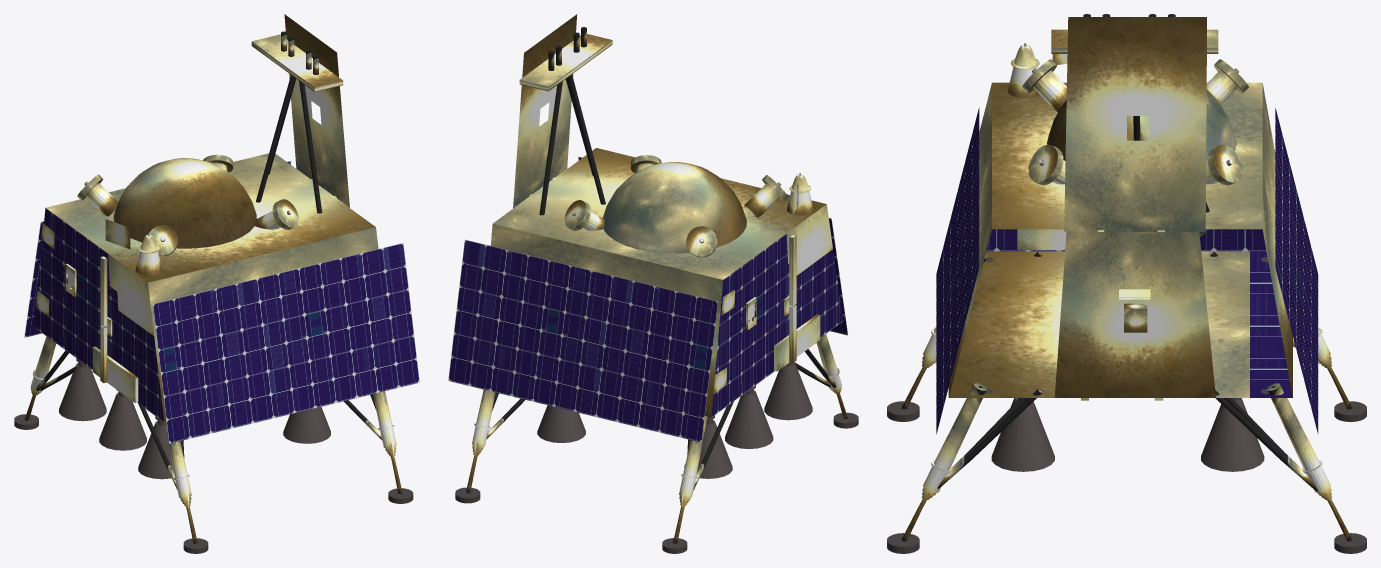
File: india_chandrayaan3_lander.glb
3 renders of one model, left to right at view 1: azimuth 30°, elevation 25°; view 2: azimuth 150°, elevation 25°; view 3: azimuth 270°, elevation 25°, orthographic. The views are drawn at different scales.
Visible parts, largest first — view 1: Object_6, Object_4, Object_9, Object_5, Object_7; view 2: Object_6, Object_4, Object_9, Object_5, Object_7; view 3: Object_4, Object_6, Object_9, Object_7, Object_5.
Boxes of the visible parts, bbox=[...] form: Object_6: bbox=[24, 161, 419, 443]; Object_4: bbox=[24, 14, 402, 543]; Object_9: bbox=[59, 358, 330, 479]; Object_5: bbox=[66, 49, 365, 420]; Object_7: bbox=[14, 414, 413, 553]; Object_6: bbox=[448, 157, 847, 442]; Object_4: bbox=[466, 14, 847, 543]; Object_9: bbox=[537, 362, 812, 478]; Object_5: bbox=[573, 27, 820, 371]; Object_7: bbox=[455, 412, 858, 553]; Object_4: bbox=[901, 14, 1352, 541]; Object_6: bbox=[936, 107, 1318, 434]; Object_9: bbox=[991, 398, 1264, 471]; Object_7: bbox=[887, 257, 1366, 553]; Object_5: bbox=[967, 14, 1110, 453].
Size of the model in its own units: 2 by 2.97 by 2.44.
6 materials, 2 textured.
